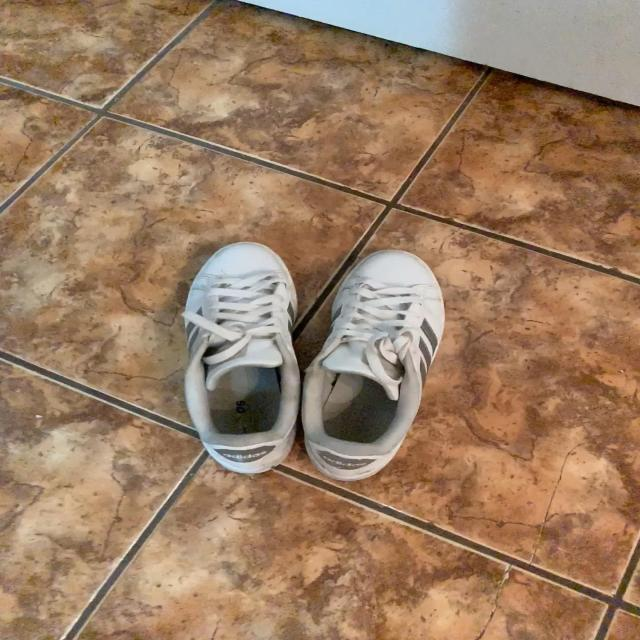shoe: (300, 250, 446, 485), (180, 241, 300, 477)
